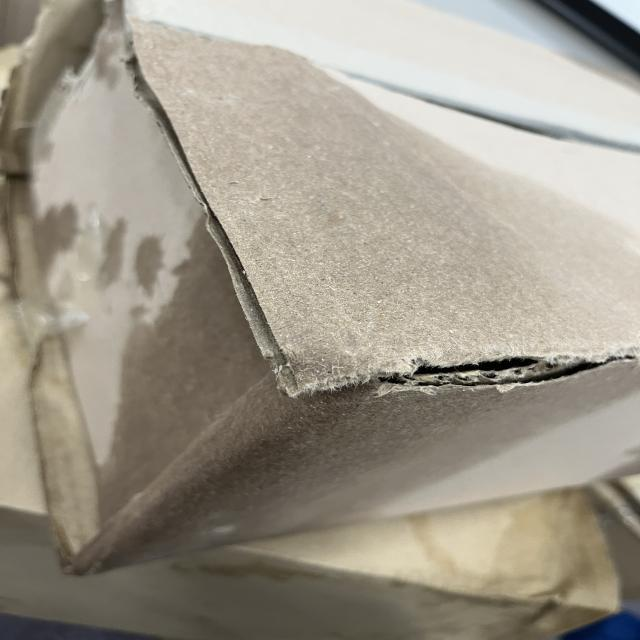wet: (63, 3, 639, 573)
